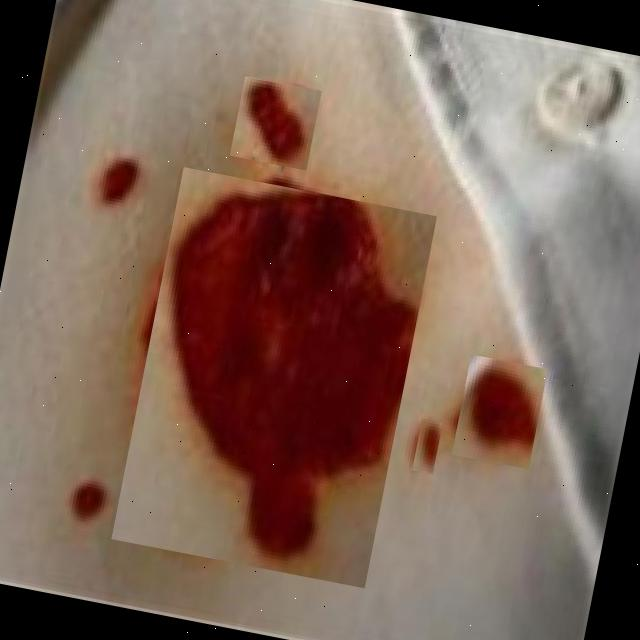Corrosion: (122, 167, 438, 577), (236, 77, 315, 166)
